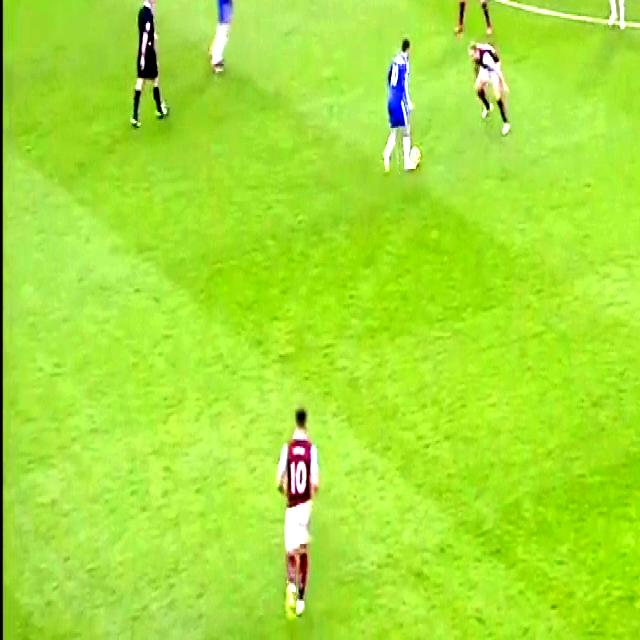ball: (407, 132, 424, 170)
referee: (122, 0, 175, 137)
soccer-player: (266, 395, 332, 630), (378, 24, 428, 180), (463, 26, 511, 142), (204, 0, 243, 76), (452, 0, 493, 39), (595, 0, 636, 36)
